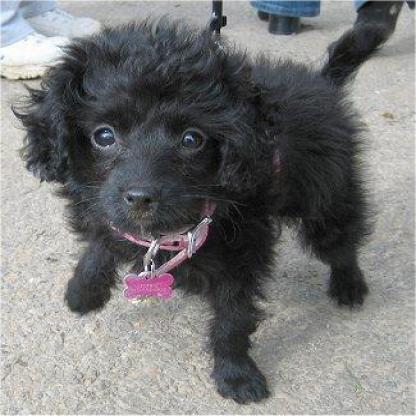toy_poodle: (10, 17, 380, 404)
